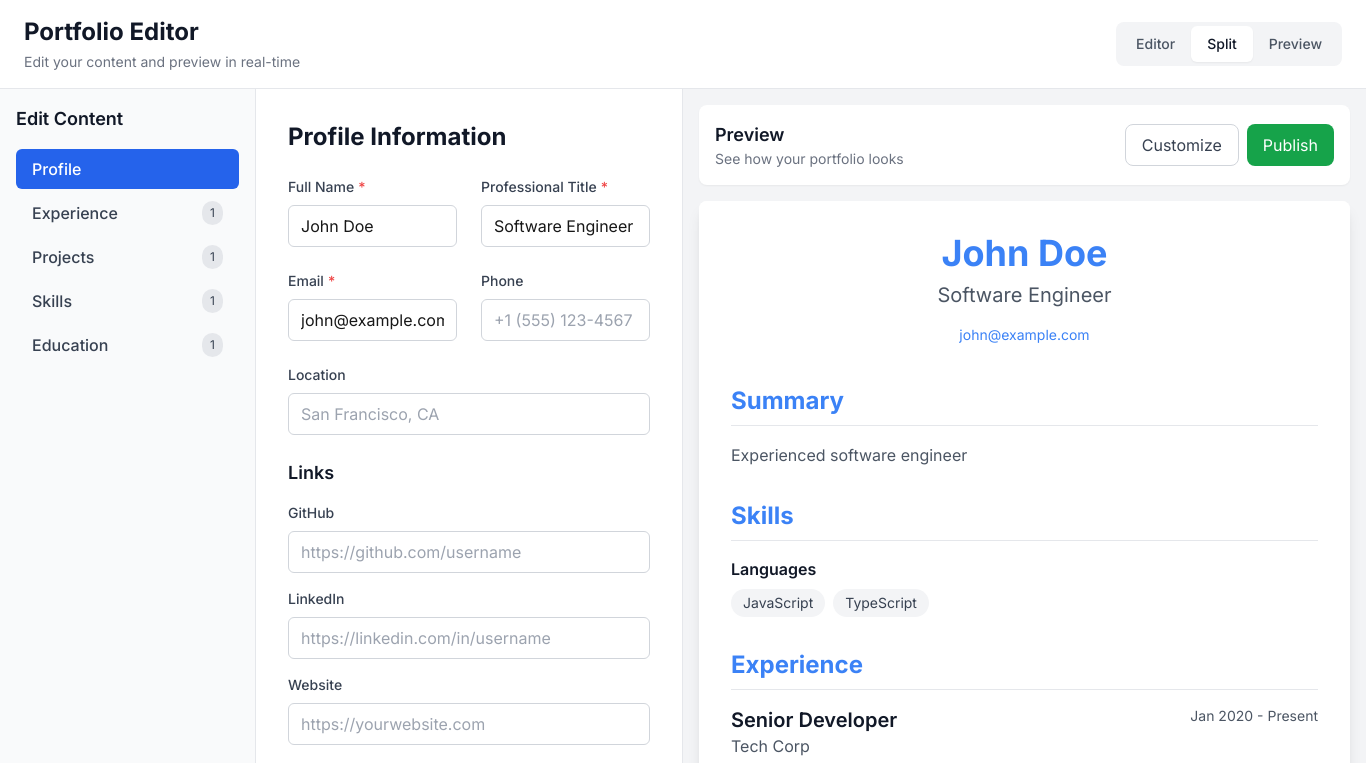
Test: EditorWithPreview › switches between view modes
This screenshot has width=1366, height=763.
Switch to editor only
Click the button "Editor" at point(1156, 44), box [1120, 26, 1191, 62]
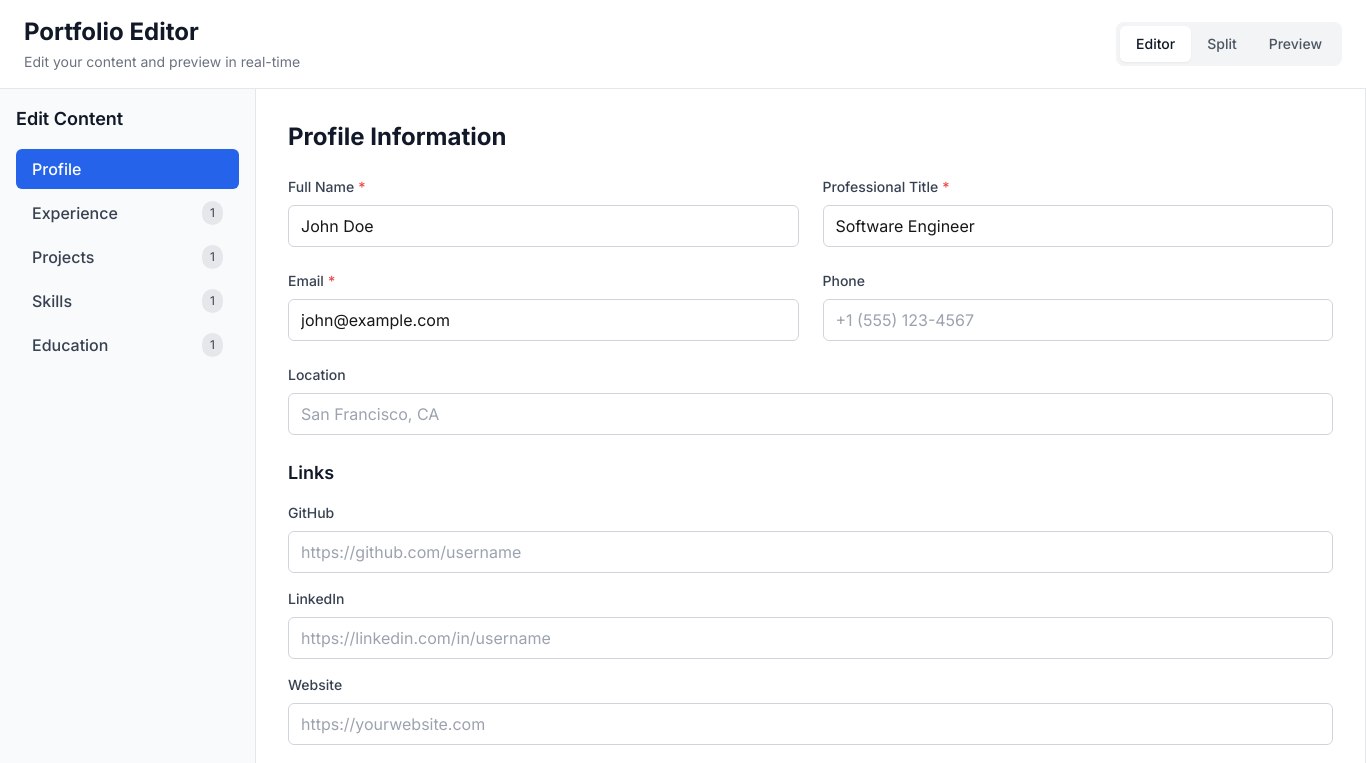
Expected: the heading "Edit Content" is shown, [16, 108, 123, 129]
Expected: the text "See how your portfolio looks" is gone
Switch to preview only
Click the button "Preview" at point(1295, 44), box [1253, 26, 1338, 62]
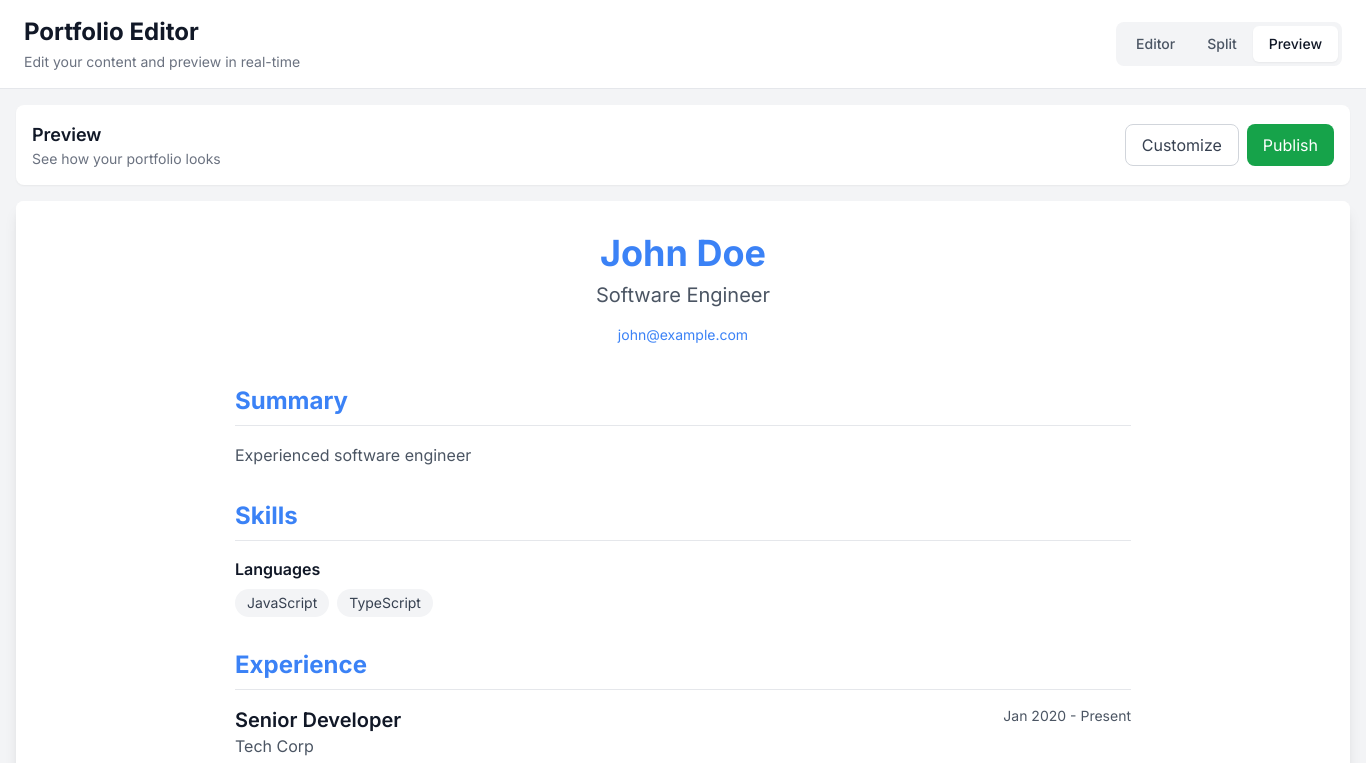
Expected: the text "See how your portfolio looks" is shown, [32, 149, 221, 169]
Expected: the heading "Edit Content" is gone
Switch back to split
Click the button "Split" at point(1222, 44), box [1191, 26, 1253, 62]
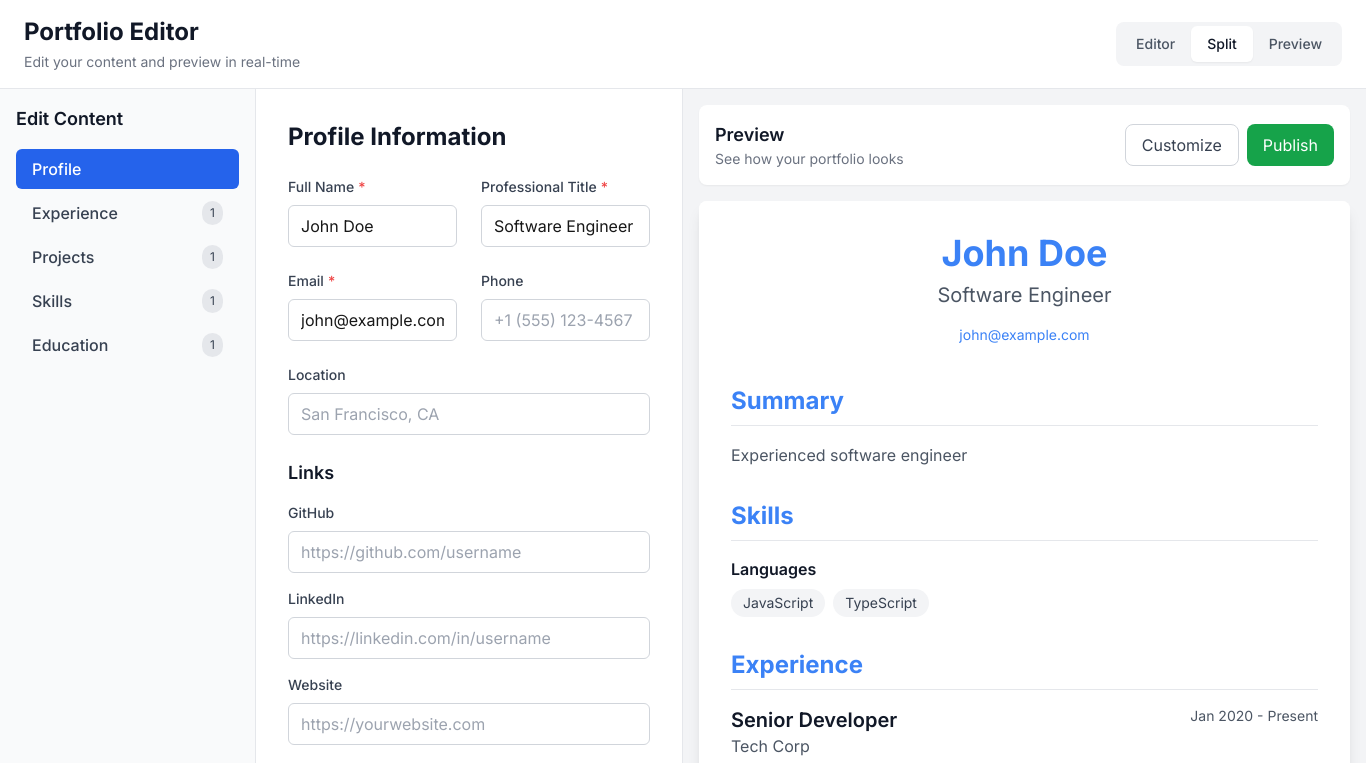
Expected: the text "See how your portfolio looks" is shown, [715, 149, 904, 169]
Expected: the heading "Edit Content" is shown, [16, 108, 123, 129]
